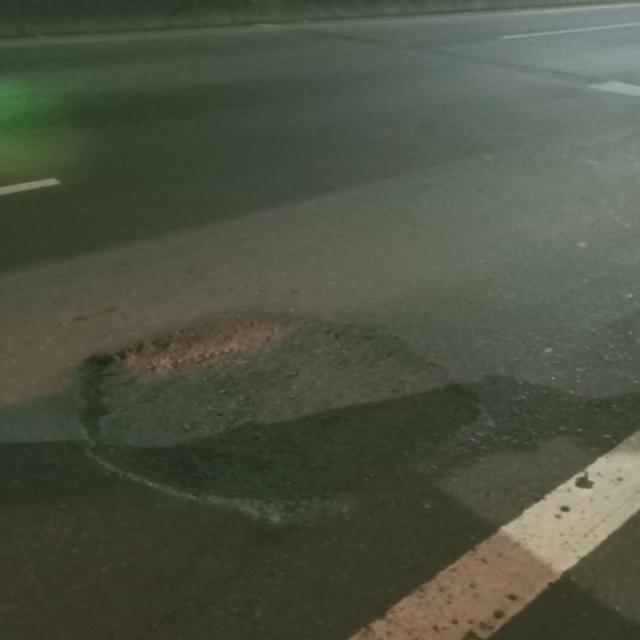Buraco: (64, 305, 503, 534)
